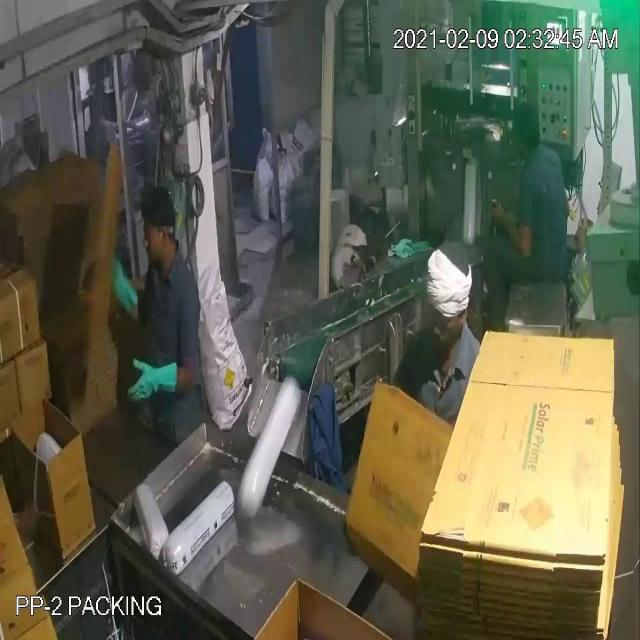Gloves: (50, 66, 512, 384)
